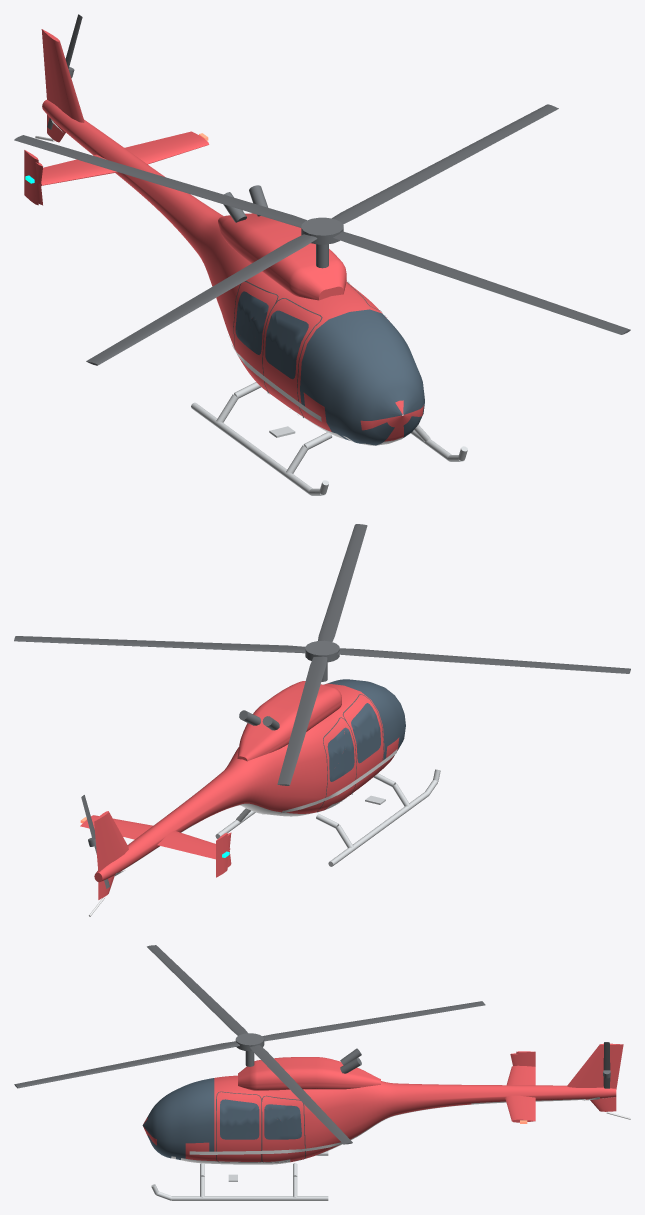
File: heli-light.glb
3 views of the same model, one above another, from view 1: azimuth 30°, elevation 25°; view 2: azimuth 150°, elevation 25°; view 3: azimuth 270°, elevation 25° (orthographic). The views are drawn at different scales.
Visible parts, largest first — view 1: heli-light; view 2: heli-light; view 3: heli-light.
Boxes of the visible parts, x1=… form: heli-light: x1=14, y1=14, x2=630, y2=495; heli-light: x1=14, y1=524, x2=630, y2=916; heli-light: x1=14, y1=945, x2=630, y2=1200.
Size of the model in its own units: 9.91 by 3.35 by 12.96.
